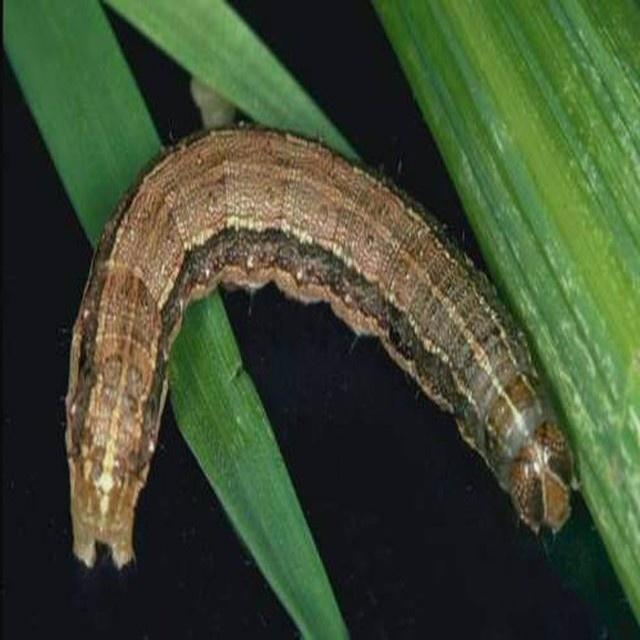gusano_cogollero: (62, 119, 582, 574)
